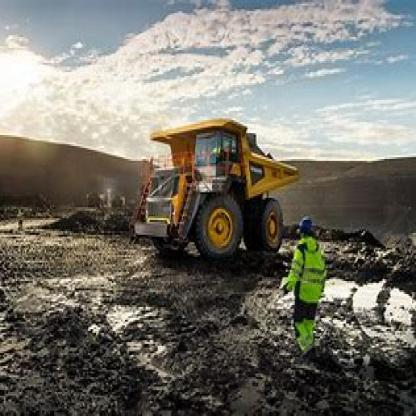dump_truck: (126, 117, 294, 255)
person: (283, 215, 329, 353)
